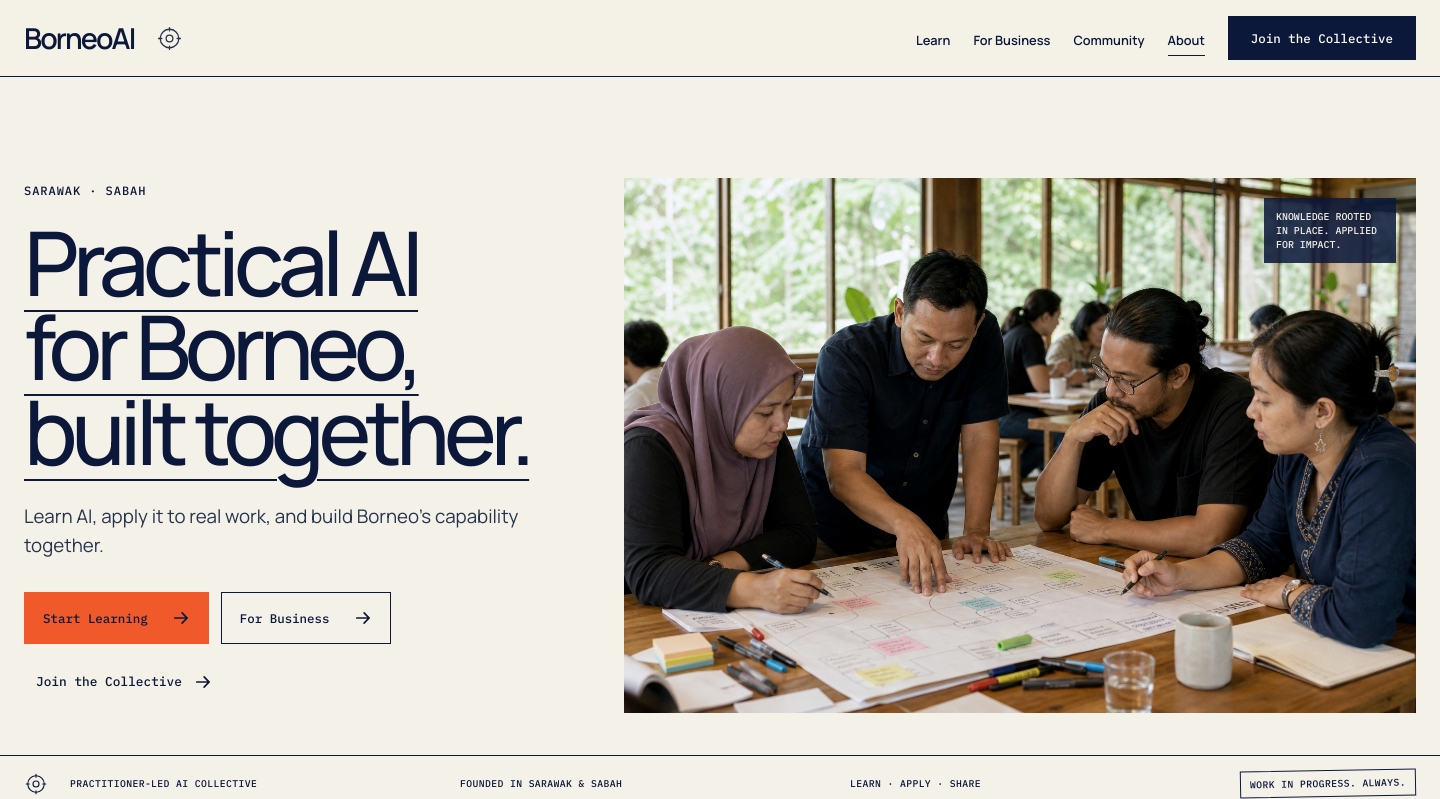
Test: BorneoAI routes and navigation › navigates without reloading and marks the new route active
Click the link "Learn" at (933, 38), box [916,2,950,74]
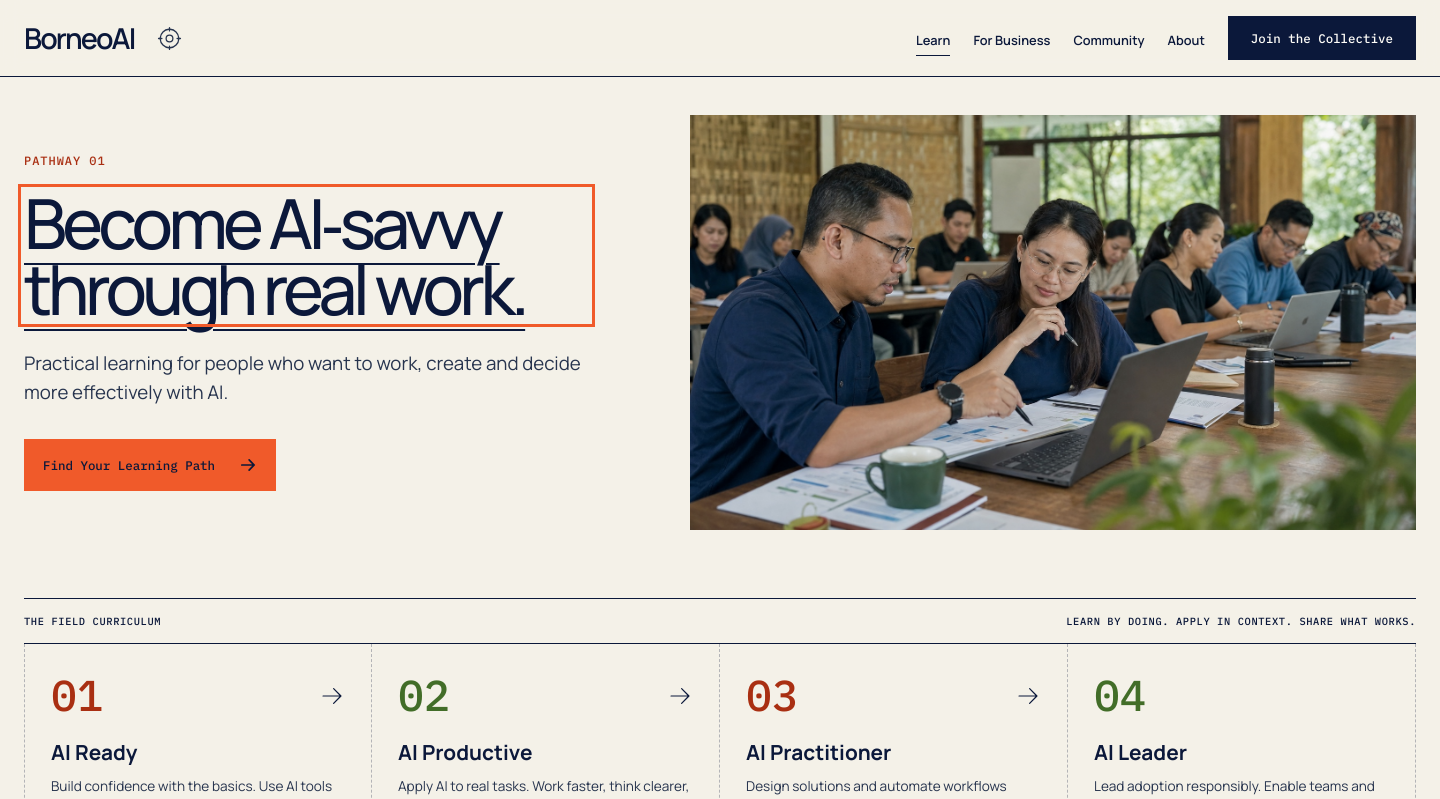
Now the heading "Become AI‑savvy through real work." is shown, box [24,190,589,322]
